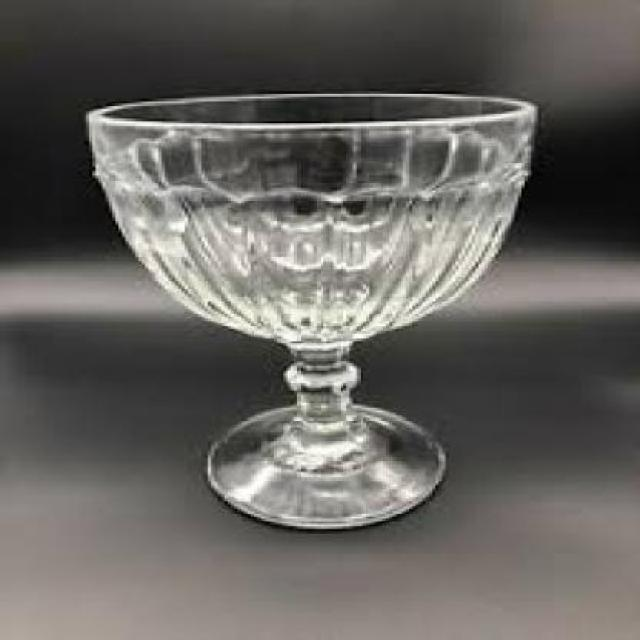kaca: (83, 89, 535, 526)
